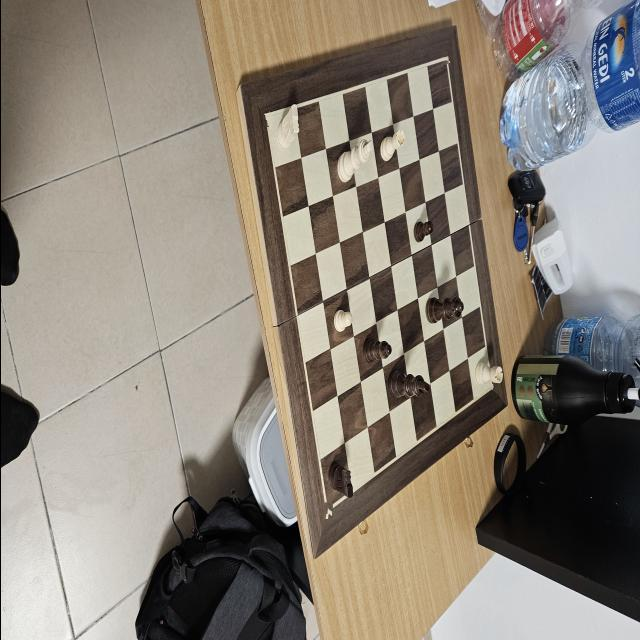chess-table-corners: (260, 108, 271, 127), (322, 503, 331, 519), (442, 52, 449, 64), (488, 383, 494, 392)
